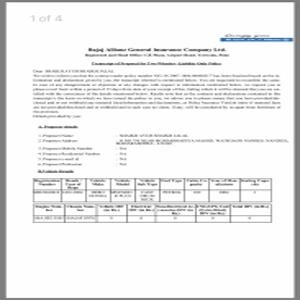image: (219, 32, 294, 43)
table: (31, 177, 272, 203), (34, 203, 274, 225)
text: (29, 68, 283, 118), (36, 123, 288, 171), (83, 43, 232, 70)
